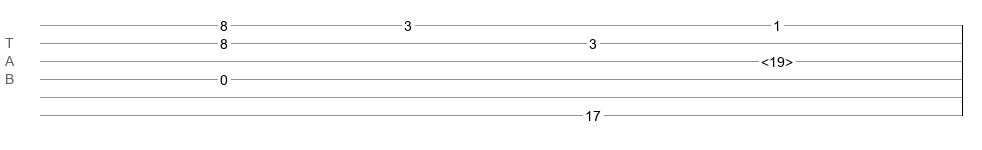0: (220, 72, 228, 82)
1: (773, 18, 781, 28)
17: (585, 108, 601, 118)
3: (404, 18, 412, 28), (589, 36, 597, 46)
8: (220, 18, 228, 28), (220, 36, 228, 46)
harmonic: (761, 54, 793, 64)
